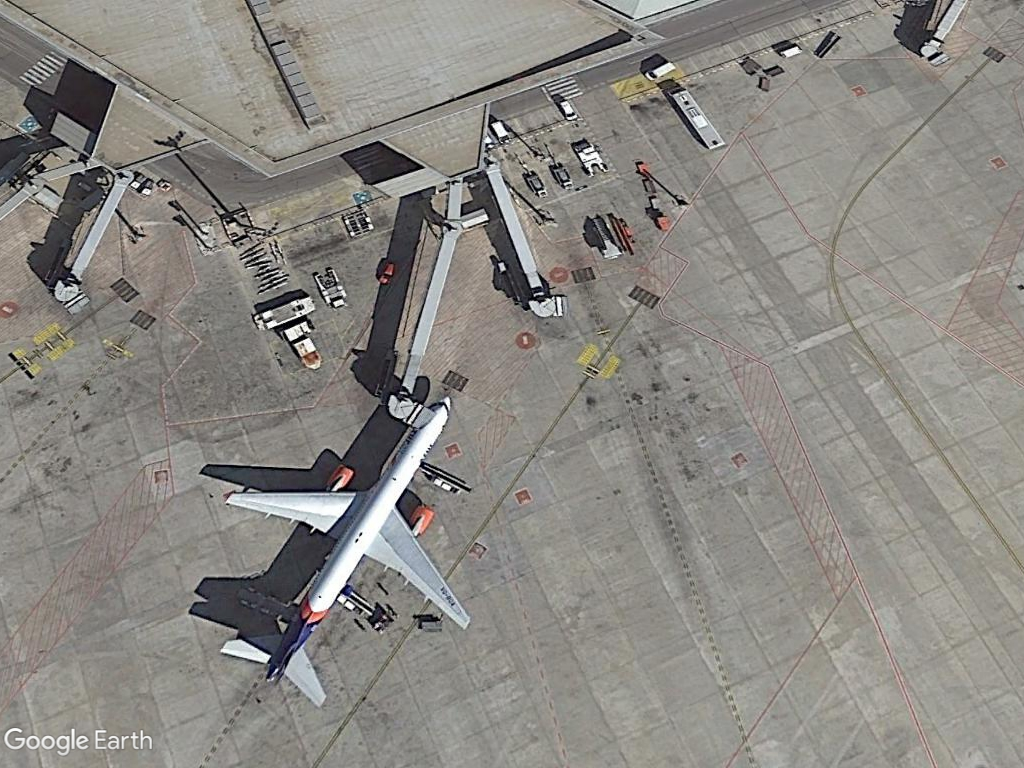airliner: (217, 392, 473, 711)
bus: (663, 81, 728, 152)
pushbacktruck: (309, 268, 353, 312), (569, 139, 611, 177)
stairtruck: (586, 211, 626, 264)
